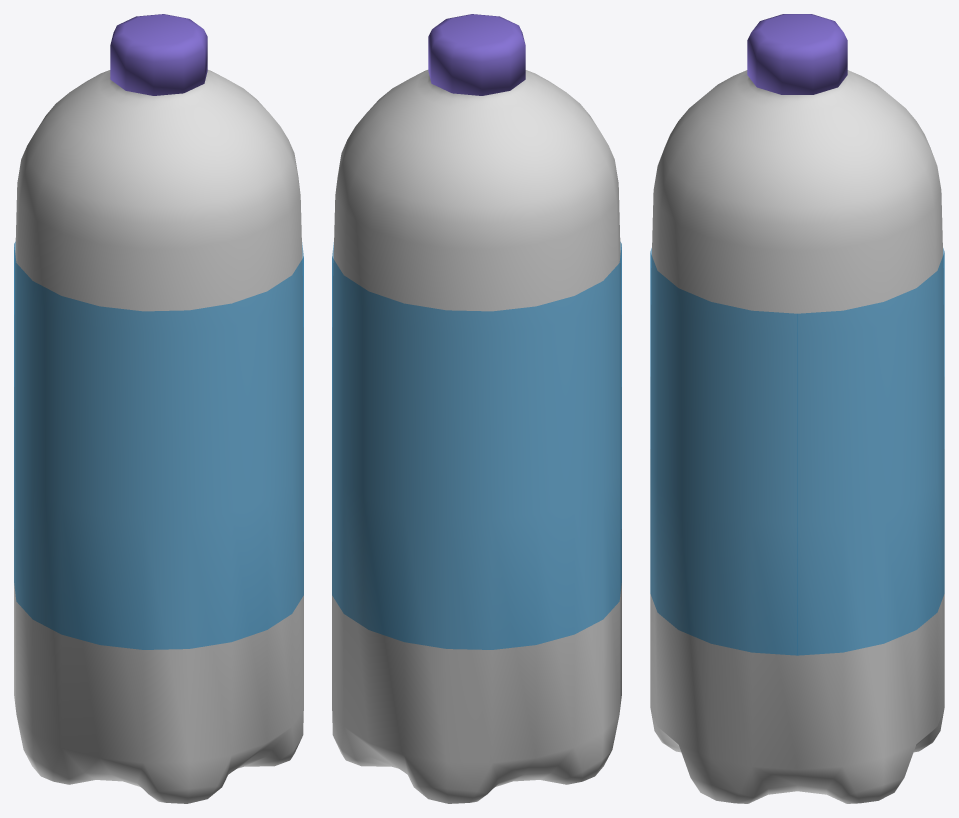
The model's file is water_bottle.glb.
The picture shows the model from 3 angles, left to right: view 1: azimuth 30°, elevation 25°; view 2: azimuth 150°, elevation 25°; view 3: azimuth 270°, elevation 25°; orthographic projection.
Parts seen in each view (by area): view 1: Bottle, Label, Lid; view 2: Bottle, Label, Lid; view 3: Bottle, Label, Lid.
Boxes of the visible parts, <box> form: Bottle: <box>14,70,303,803</box>; Label: <box>14,242,303,649</box>; Lid: <box>110,14,207,95</box>; Bottle: <box>332,70,621,803</box>; Label: <box>332,242,621,649</box>; Lid: <box>428,14,525,95</box>; Bottle: <box>650,70,944,803</box>; Label: <box>650,248,944,655</box>; Lid: <box>747,14,847,94</box>.
Size of the model in its own units: 0.0936 by 0.257 by 0.0936.
